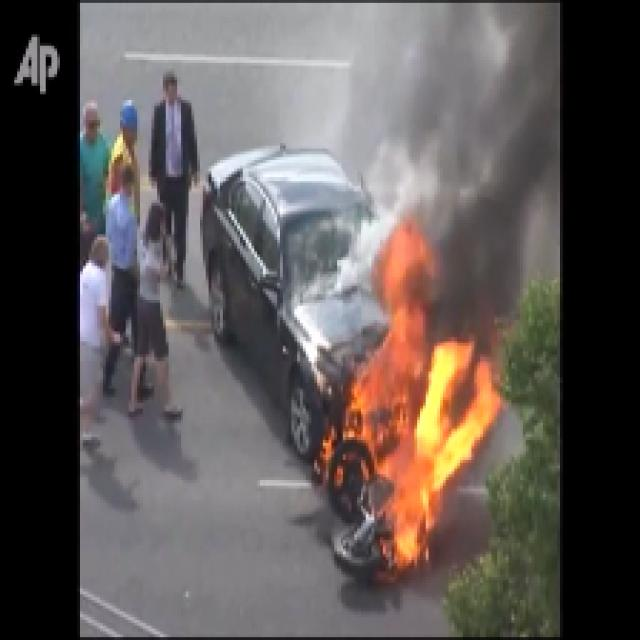fire: (348, 340, 481, 551)
smoke: (430, 17, 550, 306)
